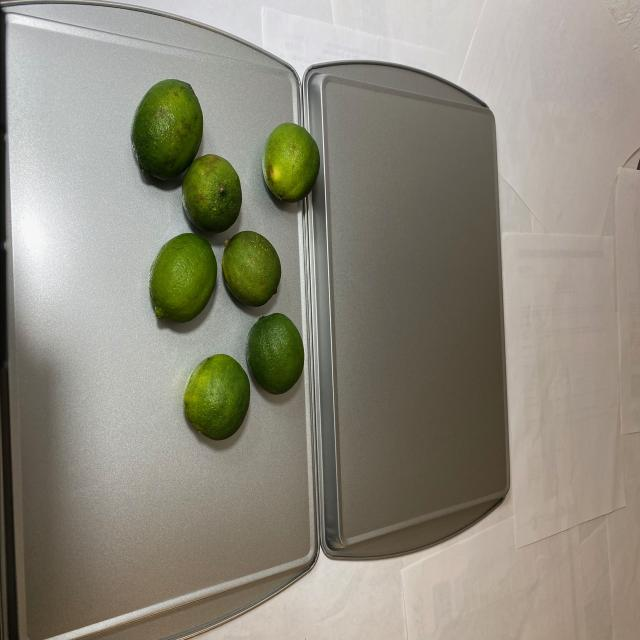lemon: (135, 75, 320, 441)
